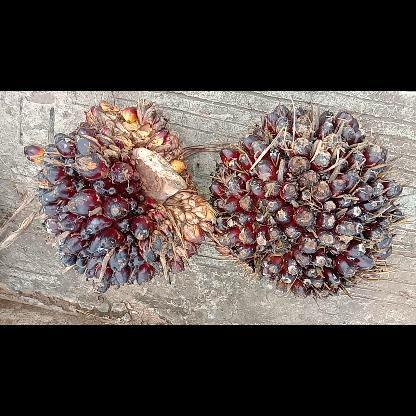TBS mentah: (207, 100, 406, 298), (25, 98, 220, 294)
